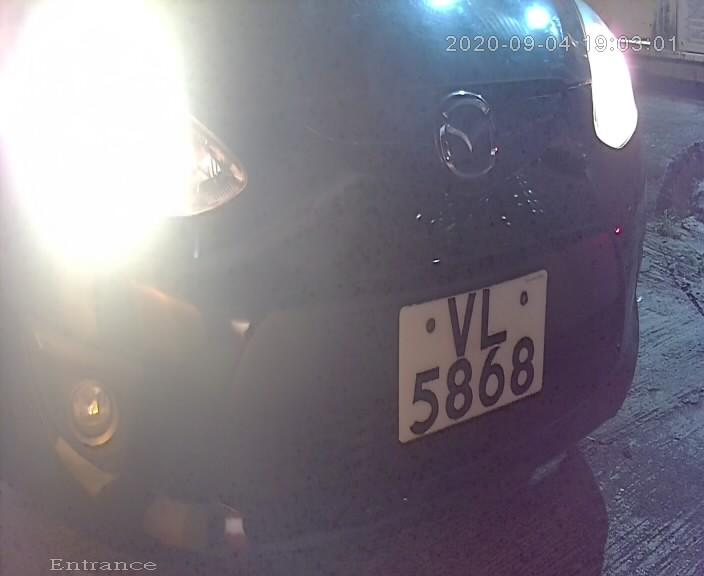License Plate: (371, 232, 557, 471)
